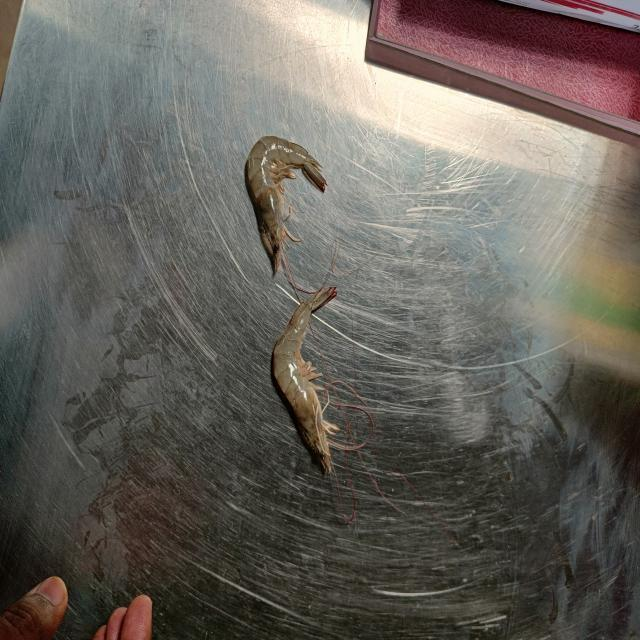shrimp: (272, 287, 338, 473), (246, 136, 326, 274)
